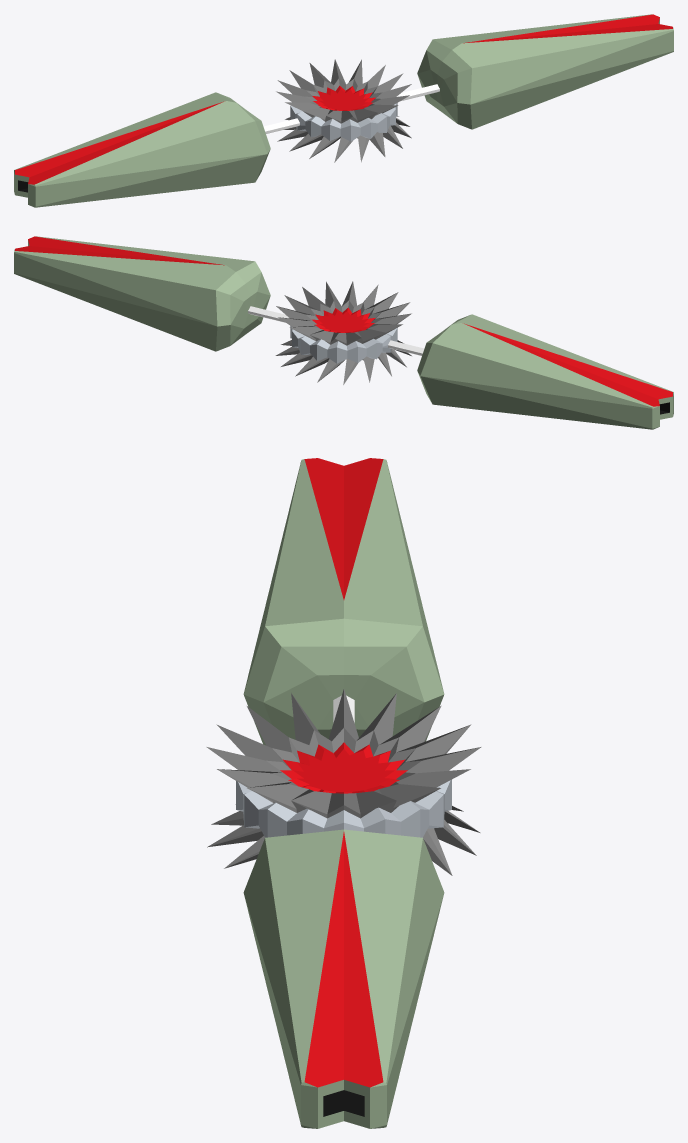
Rendered from Enemy_00_x2.fbx.
3 renders of one model, top to bottom at view 1: azimuth 30°, elevation 25°; view 2: azimuth 150°, elevation 25°; view 3: azimuth 270°, elevation 25°, orthographic. The views are drawn at different scales.
Visible parts, largest first — view 1: Enemy_00_x2; view 2: Enemy_00_x2; view 3: Enemy_00_x2.
Part boxes in pixels (x1,y1,x2,y2): Enemy_00_x2: (14,14,673,207); Enemy_00_x2: (14,236,673,429); Enemy_00_x2: (206,458,481,1128).
Size of the model in its own units: 1379 by 159 by 256.
